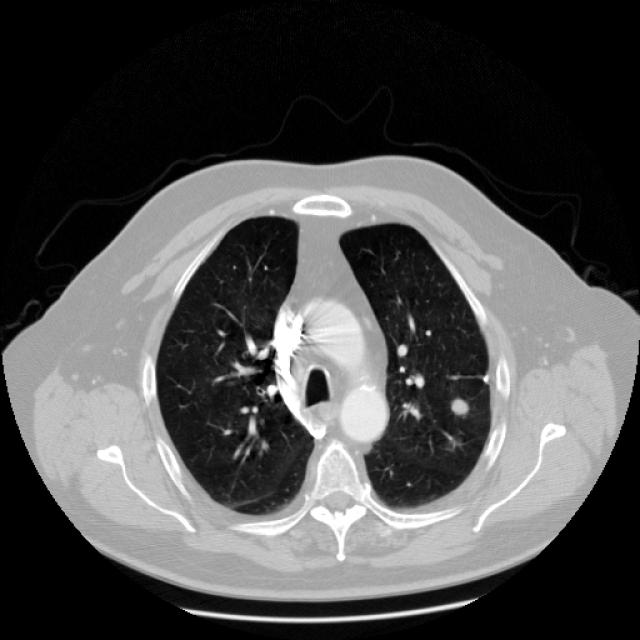nodule: (439, 386, 479, 426)
